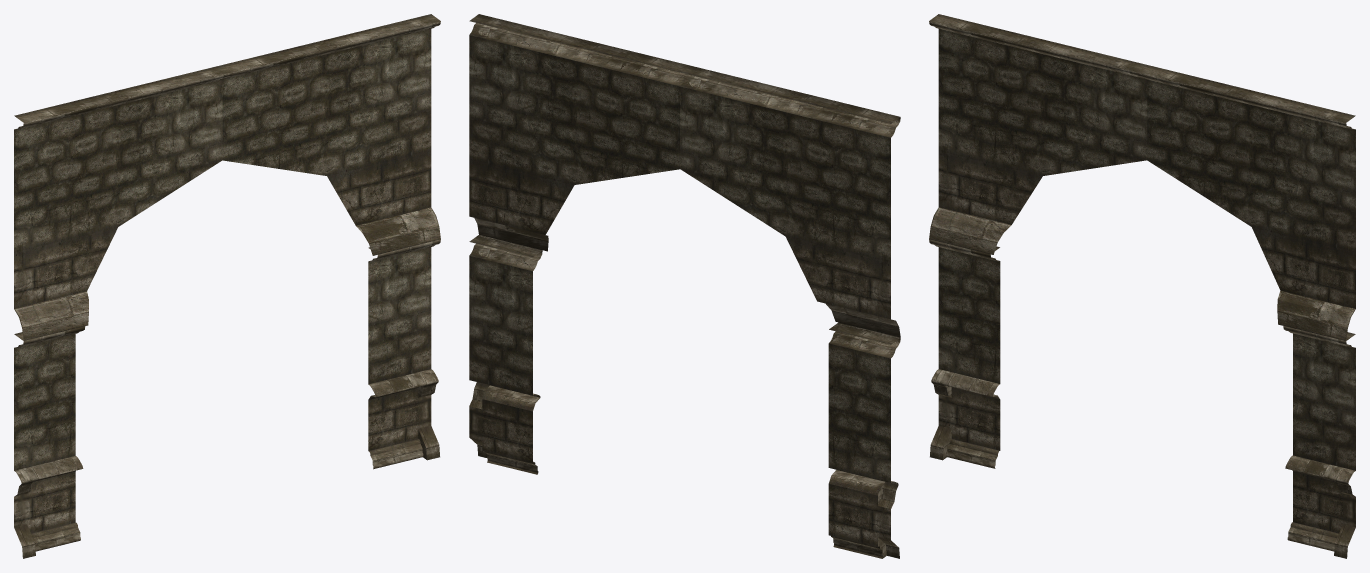
File: door_way_large_arched_worn_amfp.dae
3 views of the same model, side by side, from view 1: azimuth 30°, elevation 25°; view 2: azimuth 150°, elevation 25°; view 3: azimuth 330°, elevation 25° (orthographic).
Parts seen in each view (by area): view 1: wall_extension_polySurface112, wall_extension_polySurface111, polySurface112, polySurface144; view 2: wall_extension_polySurface112, wall_extension_polySurface111, polySurface144, polySurface112; view 3: wall_extension_polySurface112, wall_extension_polySurface111, polySurface144, polySurface112.
Boxes of the visible parts, x1=… form: wall_extension_polySurface112: x1=222, y1=14, x2=440, y2=255; wall_extension_polySurface111: x1=14, y1=65, x2=232, y2=340; polySurface112: x1=368, y1=239, x2=440, y2=469; polySurface144: x1=14, y1=326, x2=85, y2=558; wall_extension_polySurface112: x1=469, y1=14, x2=689, y2=251; wall_extension_polySurface111: x1=680, y1=65, x2=900, y2=337; polySurface144: x1=828, y1=322, x2=900, y2=558; polySurface112: x1=469, y1=235, x2=542, y2=474; wall_extension_polySurface112: x1=1137, y1=65, x2=1355, y2=340; wall_extension_polySurface111: x1=929, y1=14, x2=1147, y2=254; polySurface144: x1=929, y1=239, x2=1000, y2=468; polySurface112: x1=1283, y1=326, x2=1355, y2=558.
Size of the model in its own units: 8 by 8 by 0.3219.
